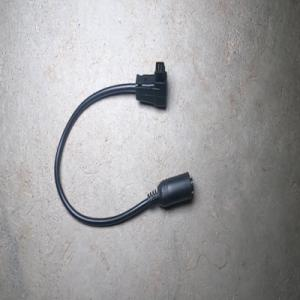Wire: (54, 61, 194, 227)
